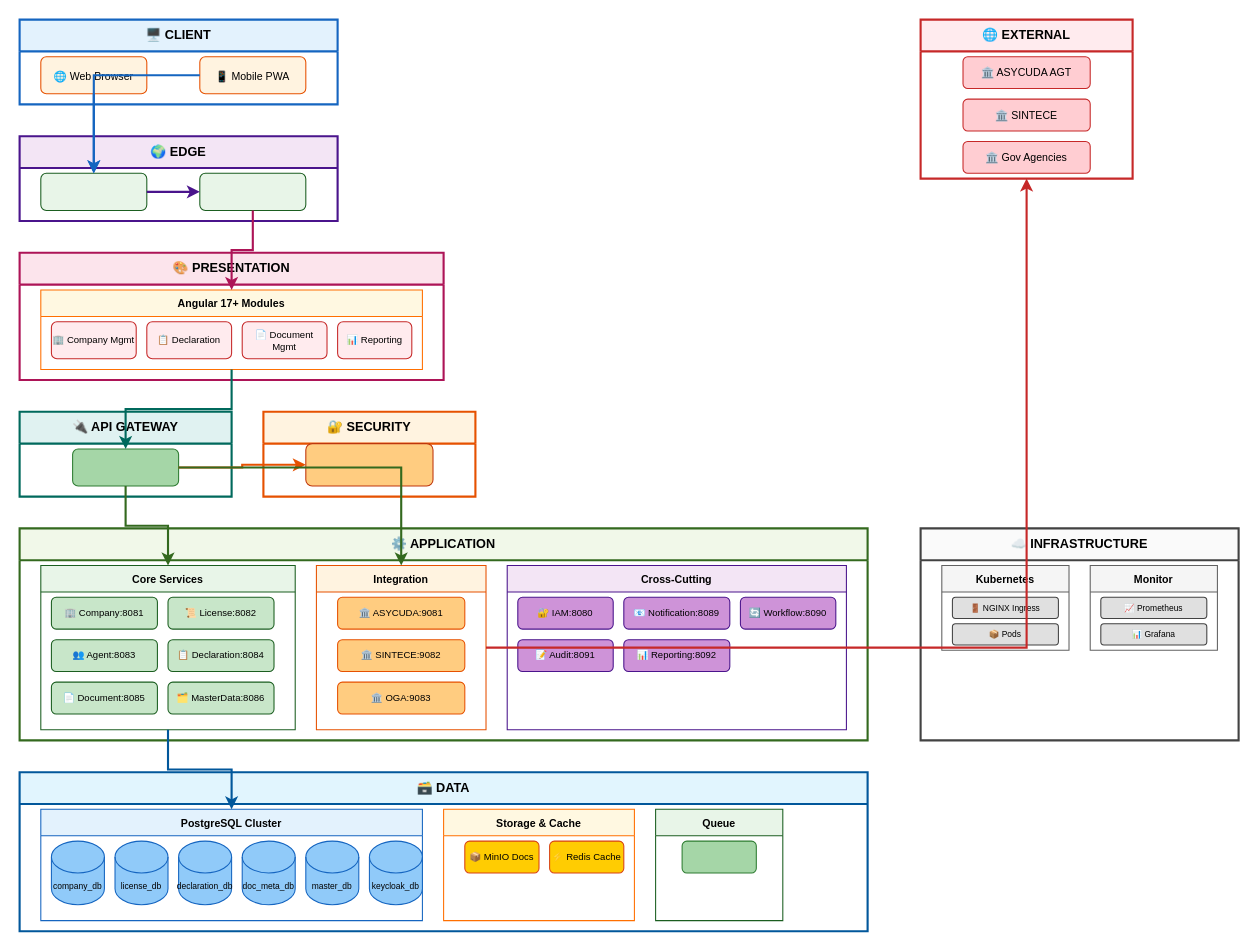
This 1257x950 diagram has some shape labels left out. The centre of each missing label's shape, as x and y in pixels:
"⚖️ Load Balancer NGINX" goes at (93,191).
"🐰 RabbitMQ" goes at (718,856).
"🔑 Keycloak 23+ OAuth/SAML/MFA" goes at (369,464).
"🛡️ WAF ModSecurity" goes at (252,191).
"🦍 Kong Gateway" goes at (125,467).
